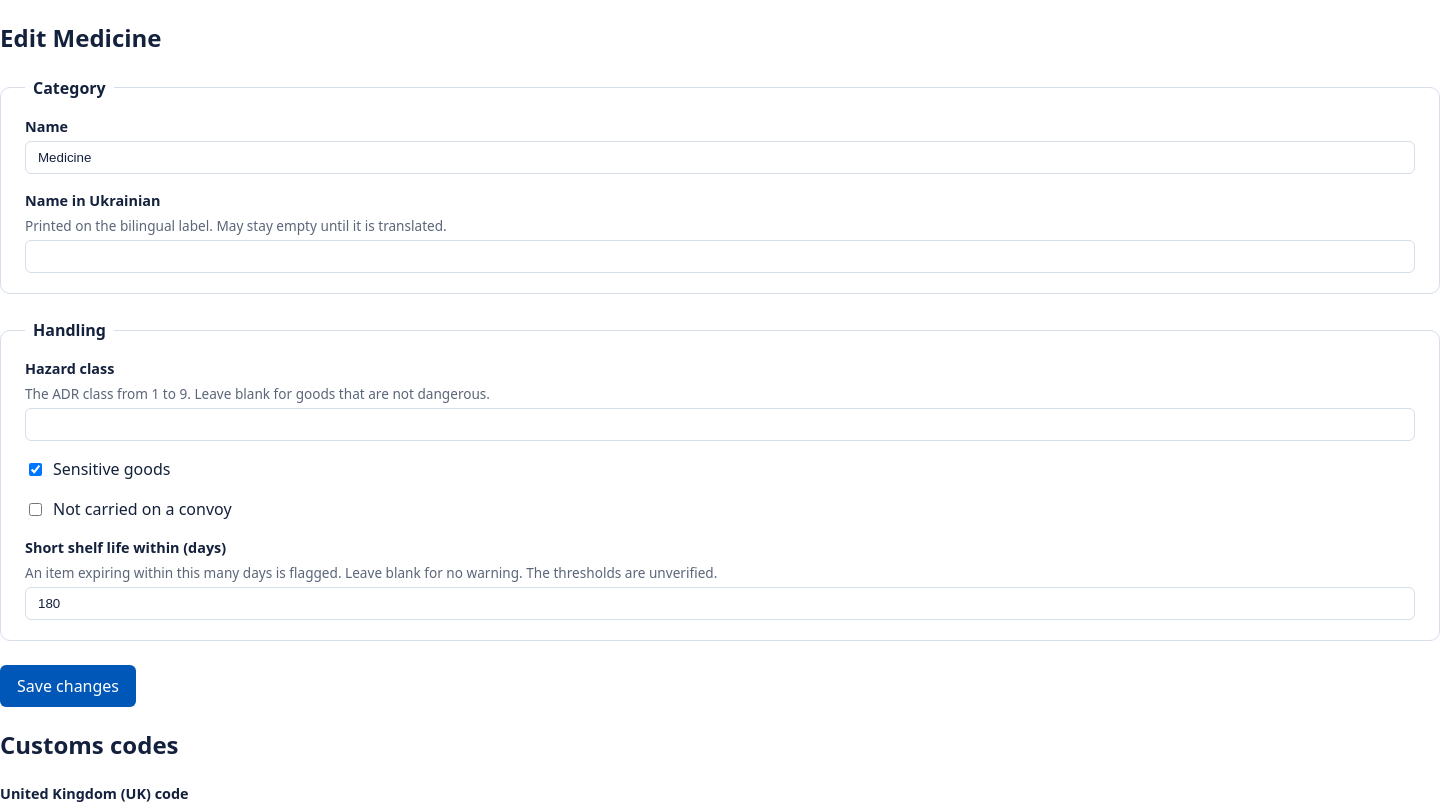
edits a category and keeps it built in
expect the heading "Edit Medicine" is shown: met, box [0,21,162,54]
Replace the text in the field labelled "Short shelf life within (days)" with "120": (720, 604) [25,587,1415,620]
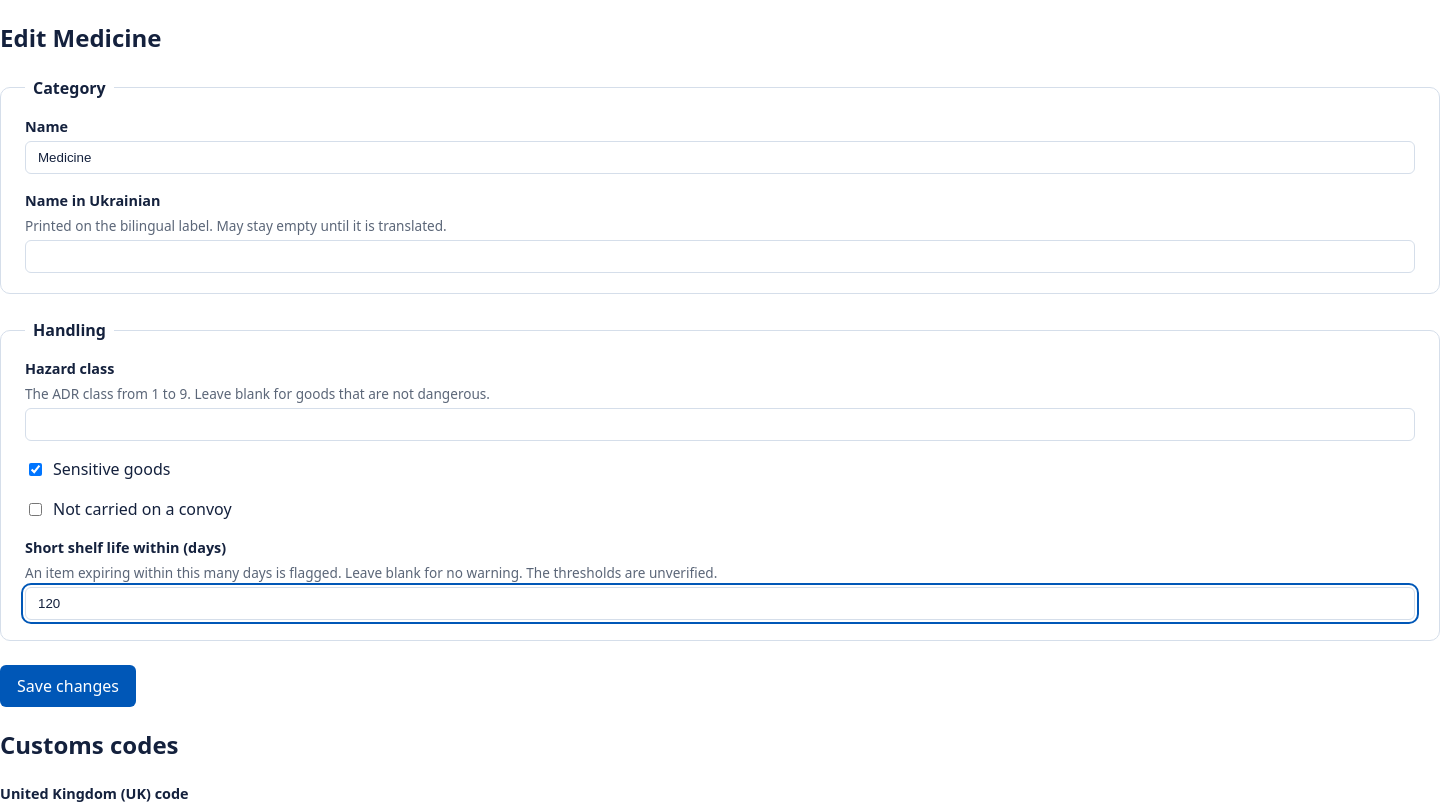
Click the button "Save changes": click(68, 686) [0,665,136,707]
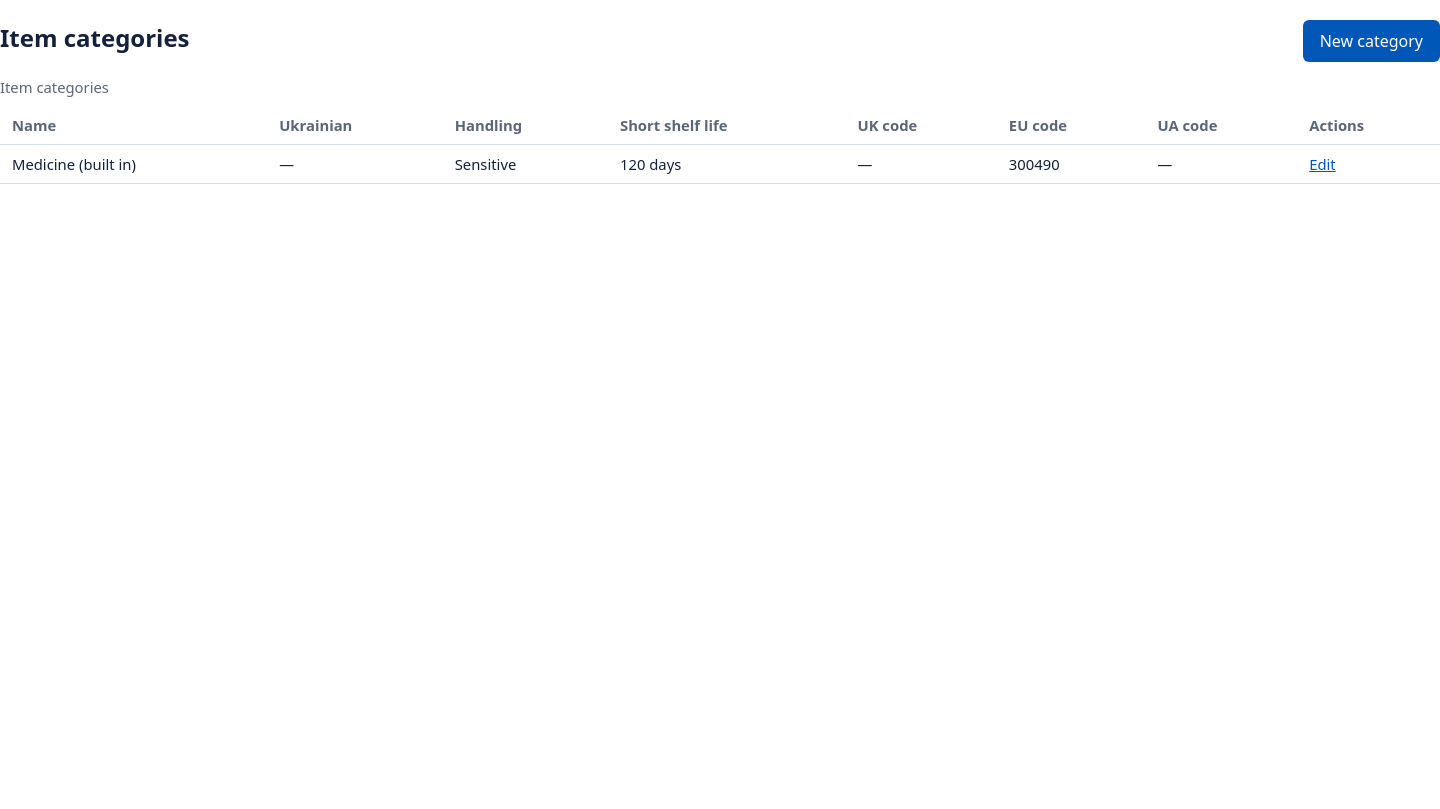
expect the heading "Item categories" is shown: met, box [0,20,190,56]
